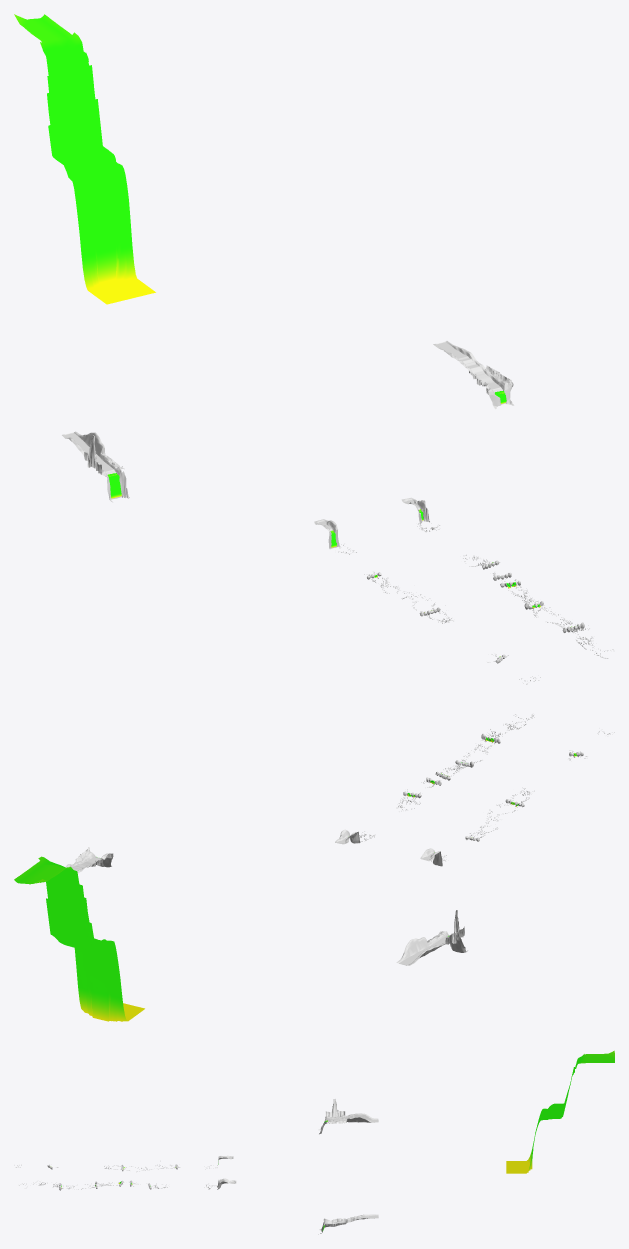
File: L16_water.fbx
3 views of the same model, one above another, from view 1: azimuth 30°, elevation 25°; view 2: azimuth 150°, elevation 25°; view 3: azimuth 270°, elevation 25° (orthographic). The views are drawn at different scales.
Parts seen in each view (by area): view 1: L16_WallFallSheets, L16_WallFallLiners, L16_WallFallFeeders; view 2: L16_WallFallSheets, L16_WallFallLiners, L16_StepRocks, L16_StreamStones, L16_WallFallFeeders; view 3: L16_WallFallSheets, L16_WallFallLiners.
Boxes of the visible parts, x1,y1,x2,y2 form: L16_WallFallSheets: (14,14,506,547); L16_WallFallLiners: (62,341,514,549); L16_WallFallFeeders: (65,342,502,530); L16_WallFallSheets: (14,852,448,1021); L16_WallFallLiners: (65,829,467,965); L16_StepRocks: (360,717,607,841); L16_StreamStones: (359,714,614,861); L16_WallFallFeeders: (71,837,448,965); L16_WallFallSheets: (218,1050,614,1230); L16_WallFallLiners: (217,1099,378,1234).
Size of the model in its own units: 138 by 79.03 by 327.
